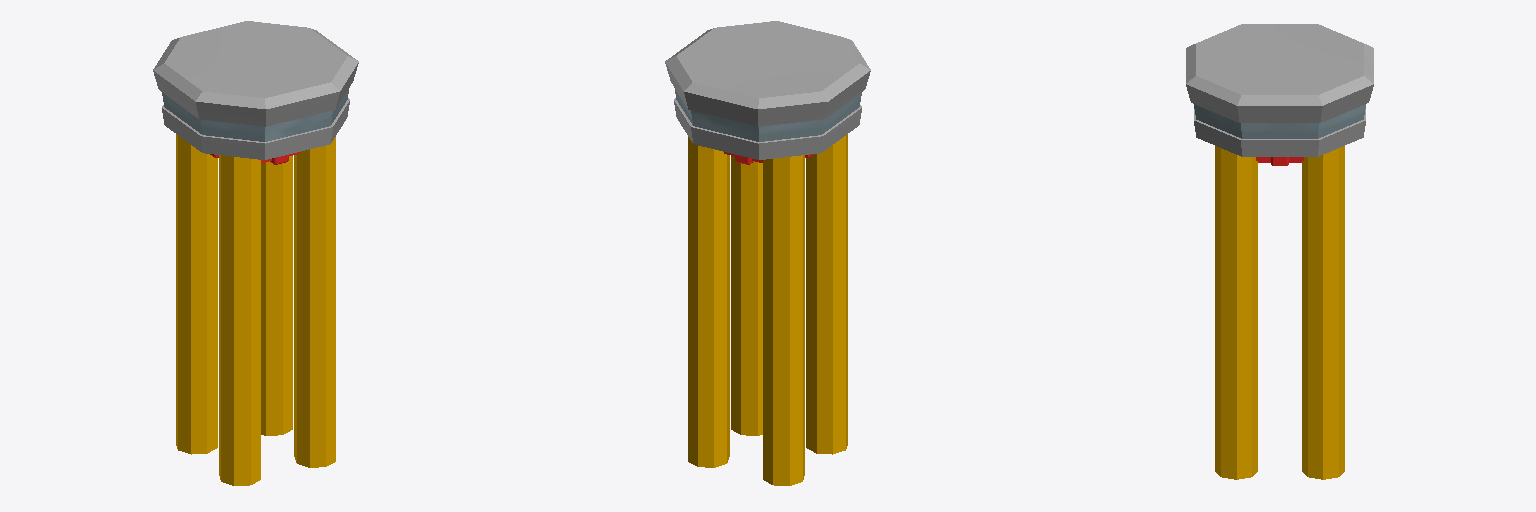
3 views of the same model, side by side, from view 1: azimuth 30°, elevation 25°; view 2: azimuth 150°, elevation 25°; view 3: azimuth 270°, elevation 25° (orthographic).
Parts seen in each view (by area): view 1: Cube, Cylinder.004, Cylinder.001, Cylinder.003, Cylinder.002; view 2: Cube, Cylinder.003, Cylinder.002, Cylinder.004, Cylinder.001; view 3: Cube, Cylinder.001, Cylinder.002.
Boxes of the visible parts, x1,y1,x2,y2 form: Cube: [153, 21, 358, 159]; Cylinder.004: [219, 155, 260, 485]; Cylinder.001: [294, 137, 335, 467]; Cylinder.003: [176, 134, 217, 454]; Cylinder.002: [261, 156, 292, 435]; Cube: [665, 21, 870, 159]; Cylinder.003: [763, 155, 804, 485]; Cylinder.002: [688, 137, 729, 467]; Cylinder.004: [806, 134, 847, 454]; Cylinder.001: [731, 156, 762, 435]; Cube: [1186, 24, 1373, 156]; Cylinder.001: [1215, 146, 1257, 479]; Cylinder.002: [1302, 146, 1344, 479].
Bounding box in the file's own units: 4.34 × 9.97 × 4.34.
6 materials, 3 textured.